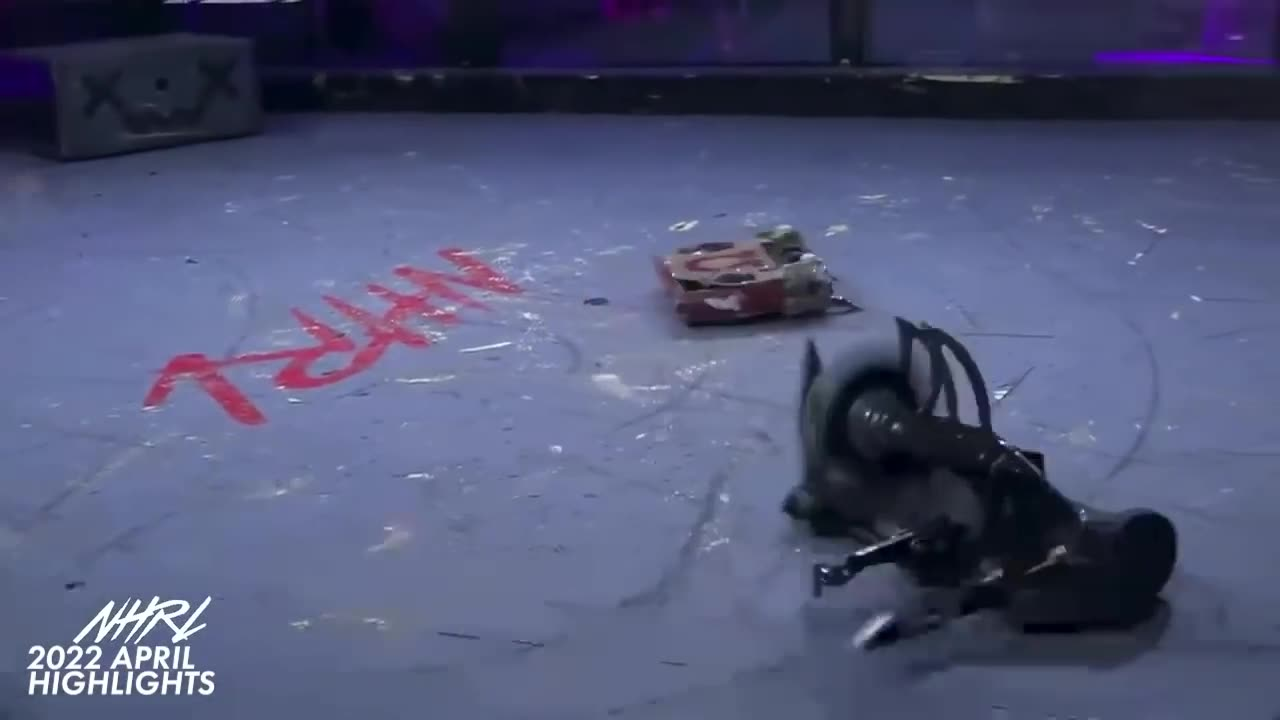combatbot: (781, 312, 1173, 659), (658, 225, 859, 329)
housebot: (5, 34, 261, 166)
